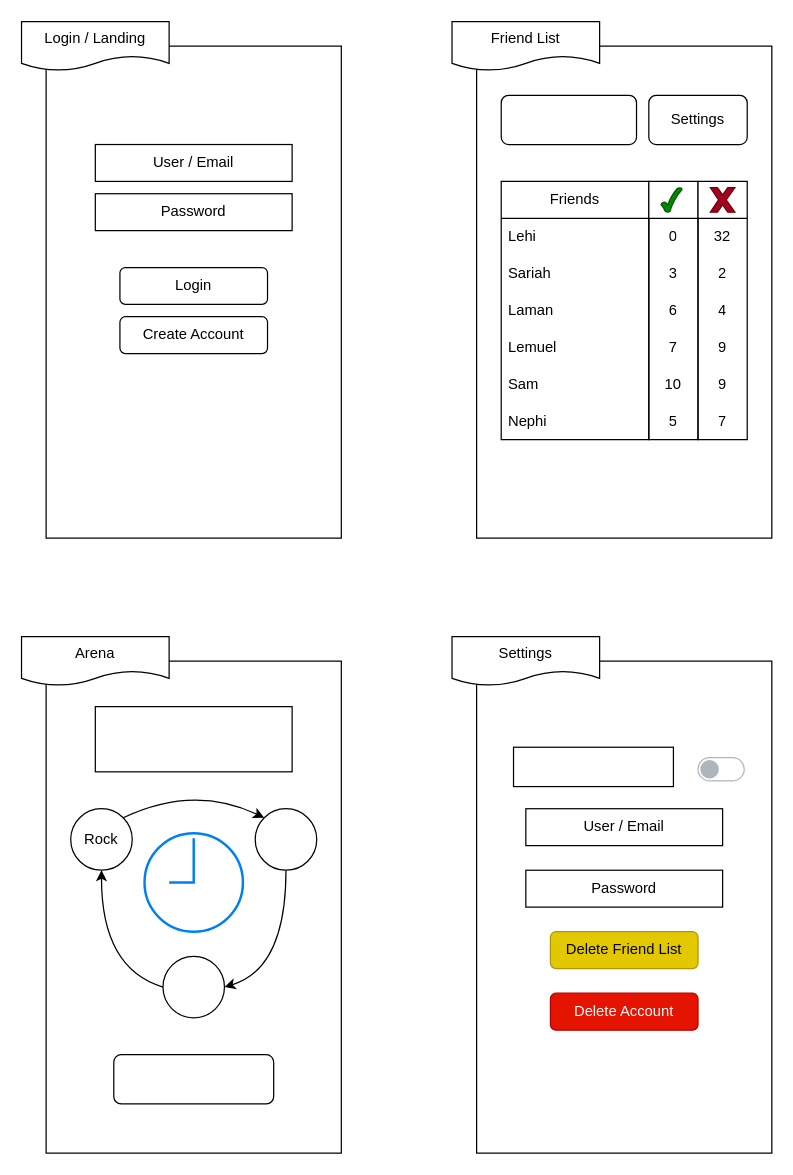
This 793x1175 diagram has some shape labels left out. The centre of each missing label's shape, as x and y in pixels:
"English - Japanese" goes at [592,766].
"Opponent" goes at [193,738].
"Paper" goes at [285,838].
"Quit" goes at [193,1078].
"Scissors" goes at [193,986].
"To the Arena!" goes at [568,119].
